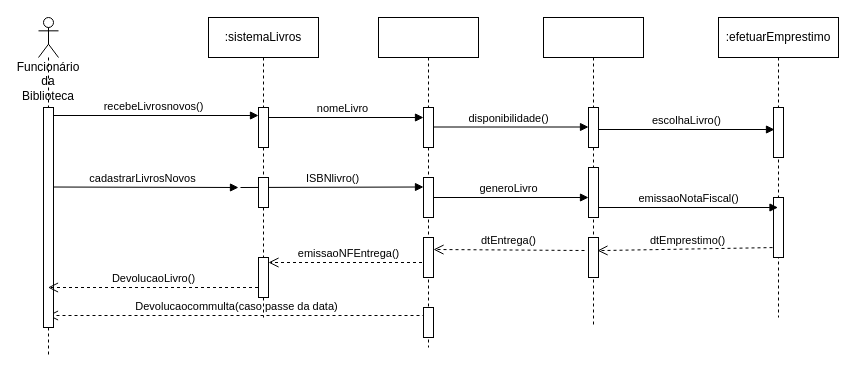
This 856x375 diagram has some shape labels left out. Each missing label, with the centre of its shape:
":Emprestimo" goes at (593,172).
":Livros" goes at (428,182).
